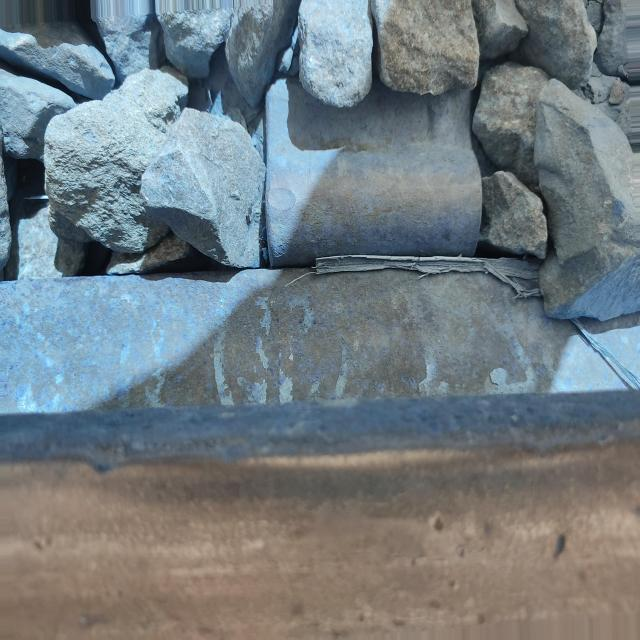Missing Fastener: (242, 43, 509, 296)
